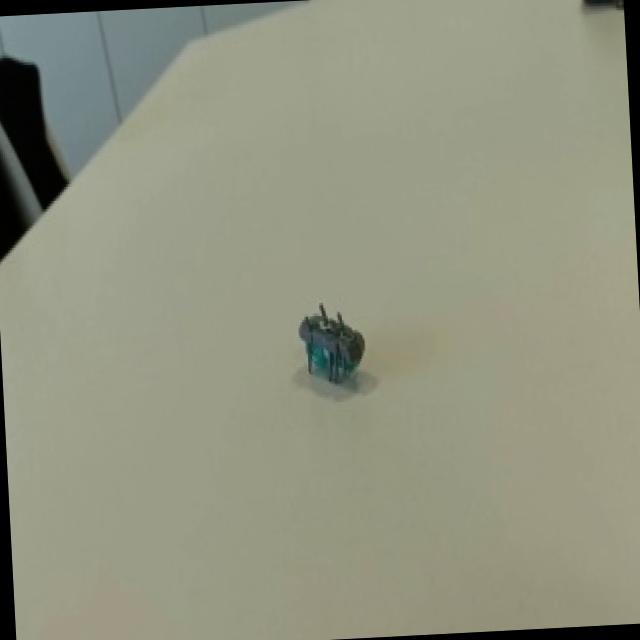5_NanoBug_GrisClaro: (286, 294, 386, 419)
